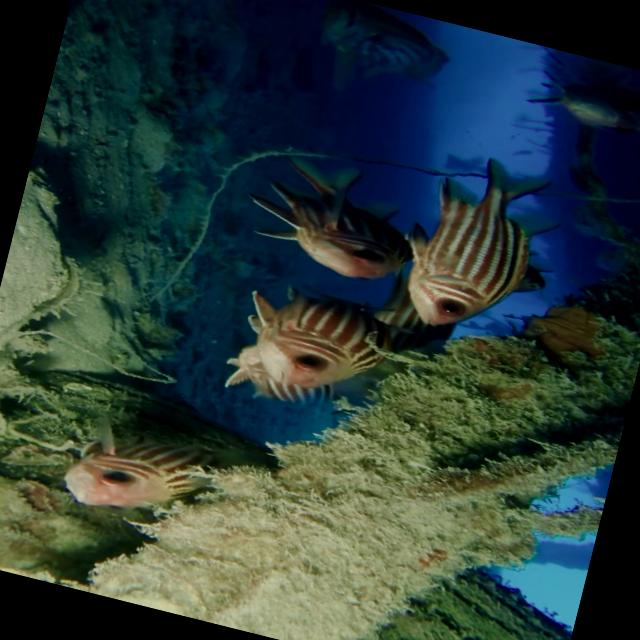Asker Baligi: (386, 142, 575, 352), (229, 140, 436, 310), (216, 271, 404, 428), (54, 408, 228, 536)
